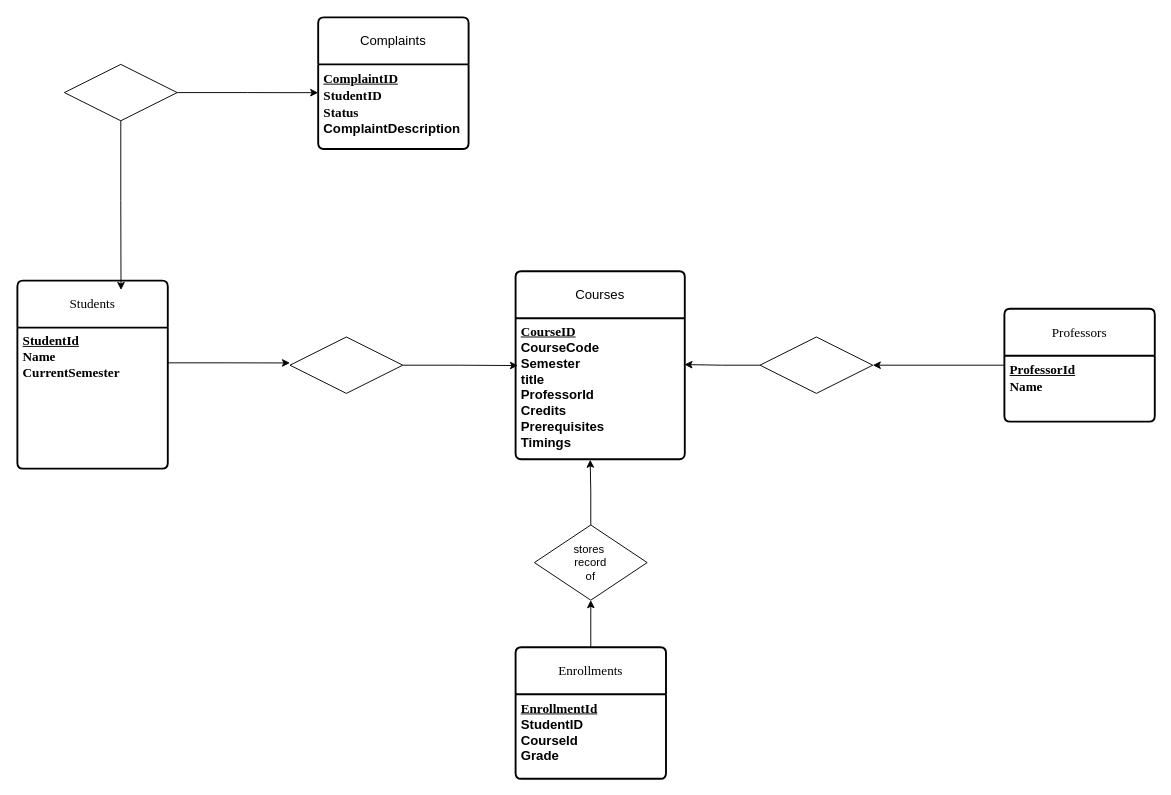
Image size: 1171x795. Some labels were removed from this diagram. Each missing label, with the centre of its shape:
"enrolls" goes at point 346,364.
"files" goes at point 120,92.
"teaches" goes at point 816,364.
